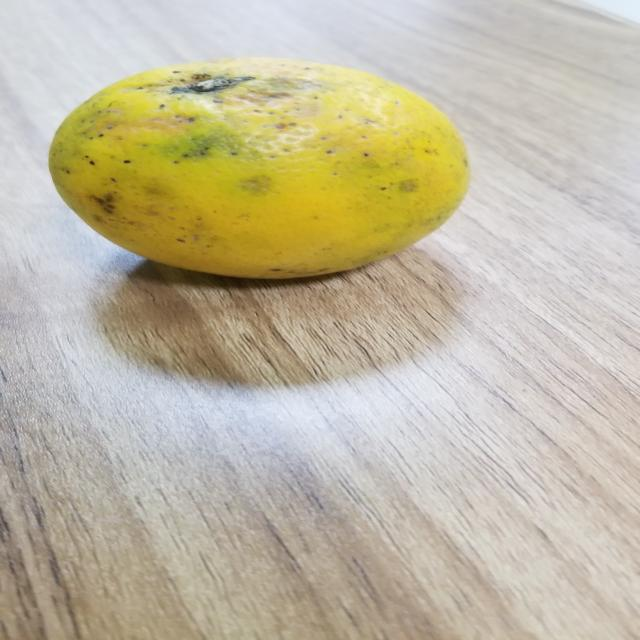Ripe orange: (36, 51, 496, 286)
